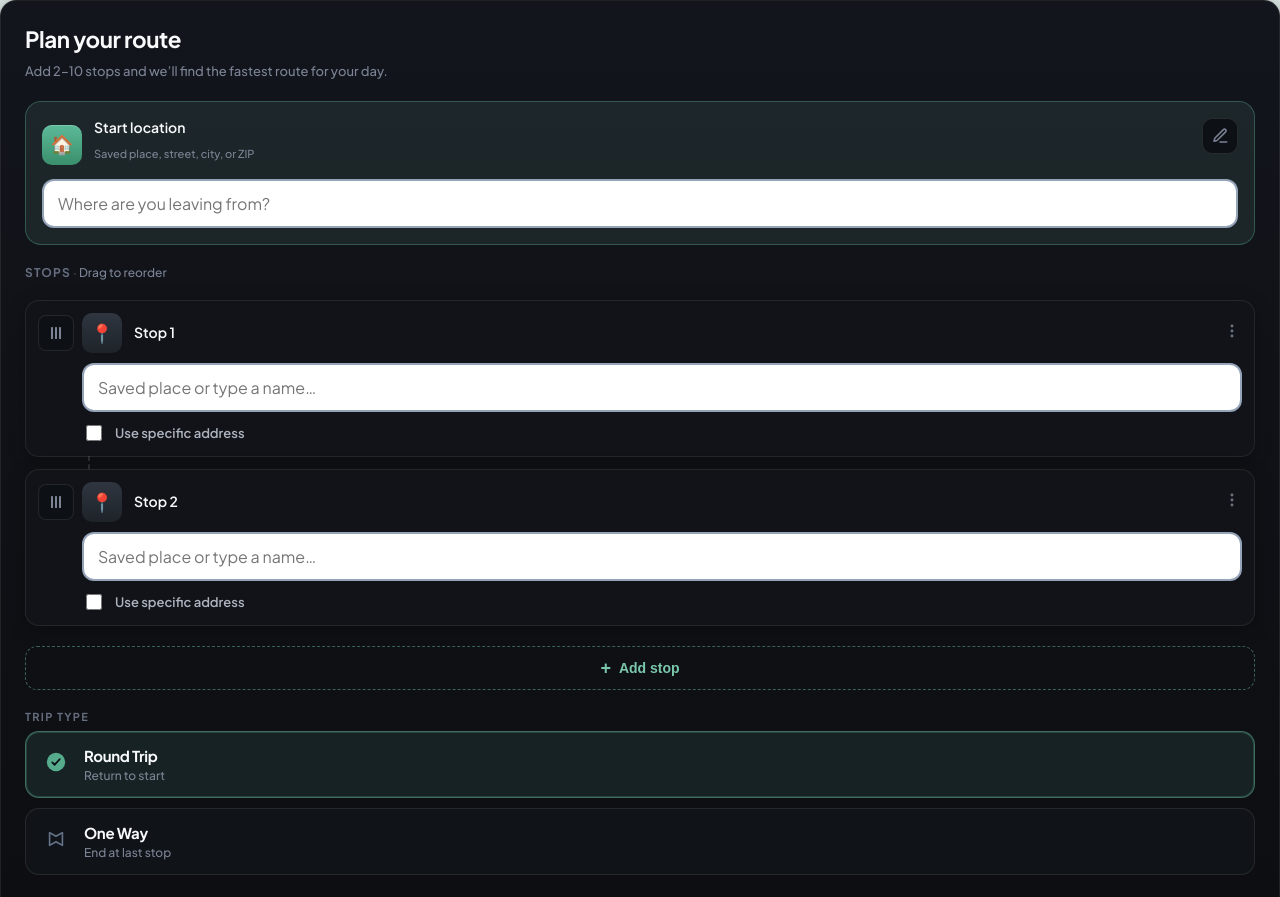
Test: RouteBuilderPanel › saved place matching start field is omitted from other stops’ saved list
This screenshot has width=1280, height=897.
Focus the field named "origin-place-input". click: (640, 204)
box: [42,179,1238,228]
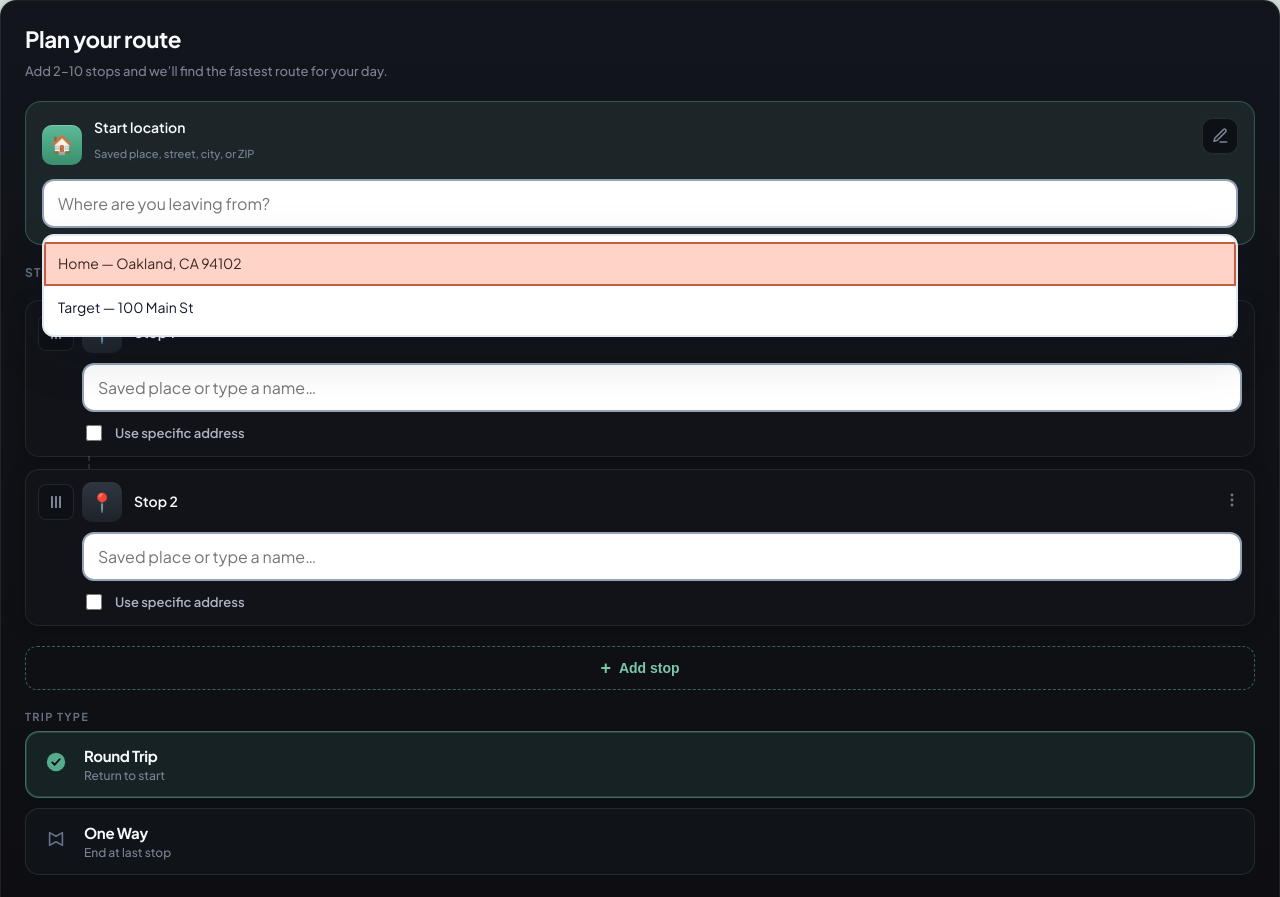
Press the mouse on the option "Home — Oakland, CA 94102" at (150, 263), box [44,242,1236,286]
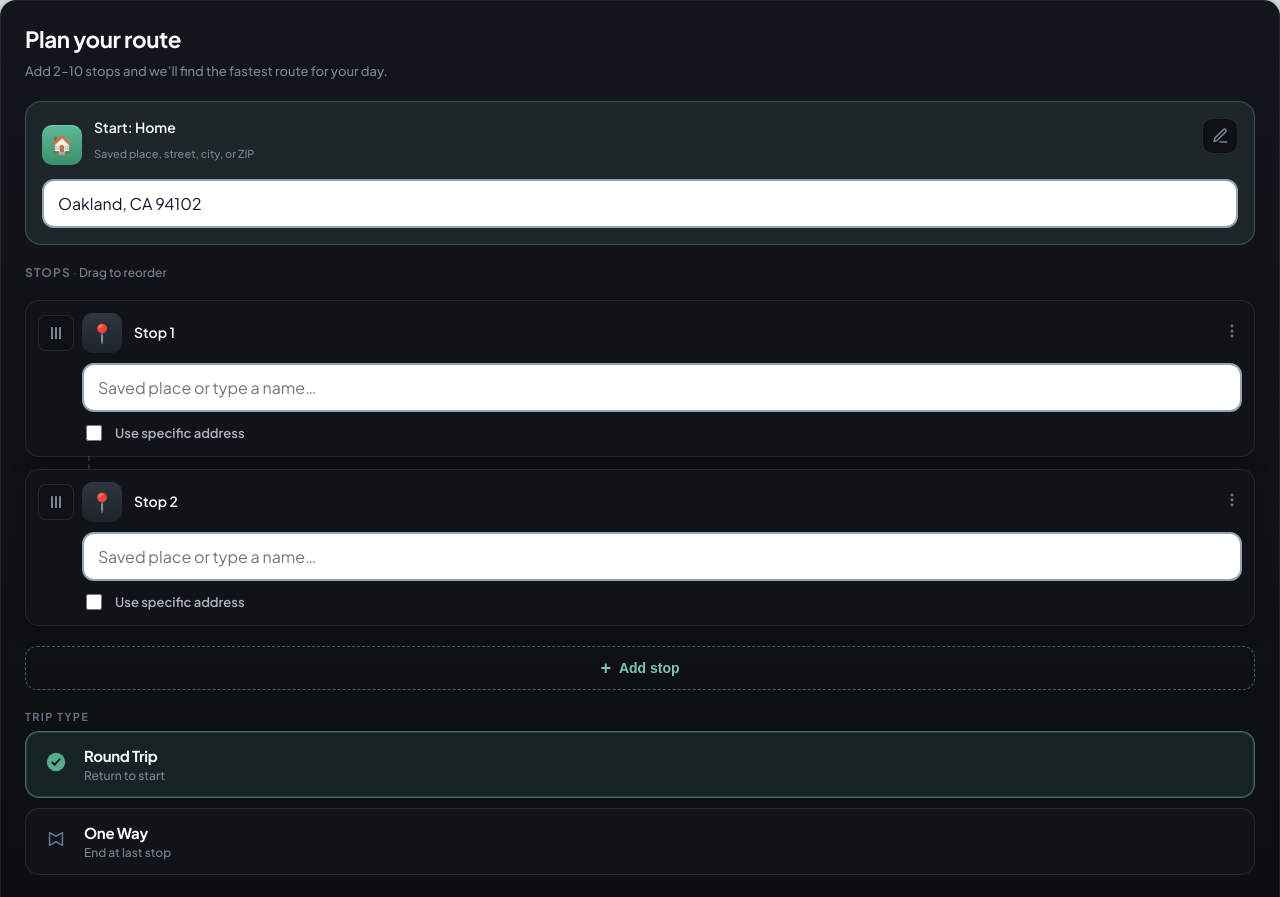
Focus the field named "Stop 2 store or place name". click: (662, 557)
box: [82,532,1242,581]
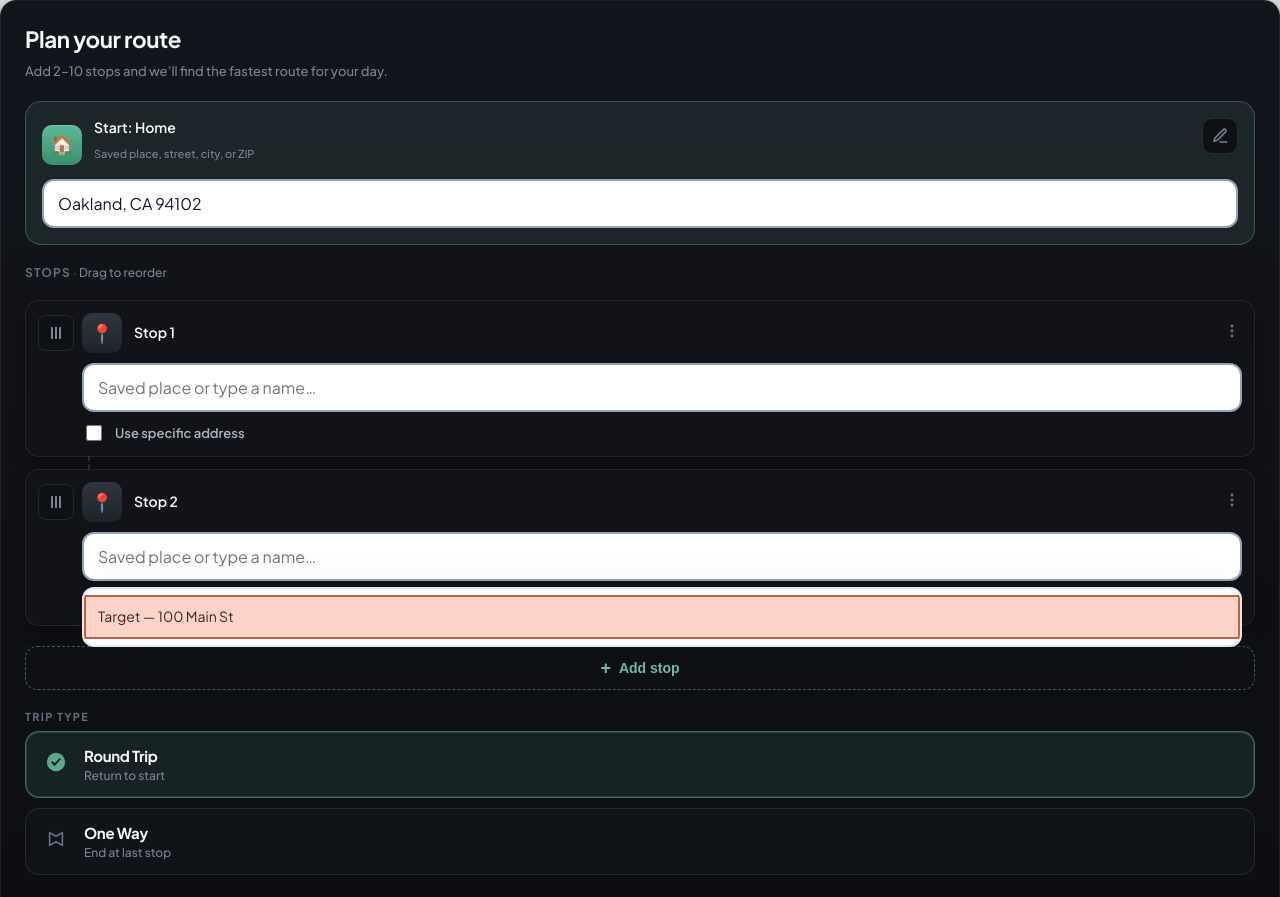
Check: the list is shown, box [82,587,1242,647]
